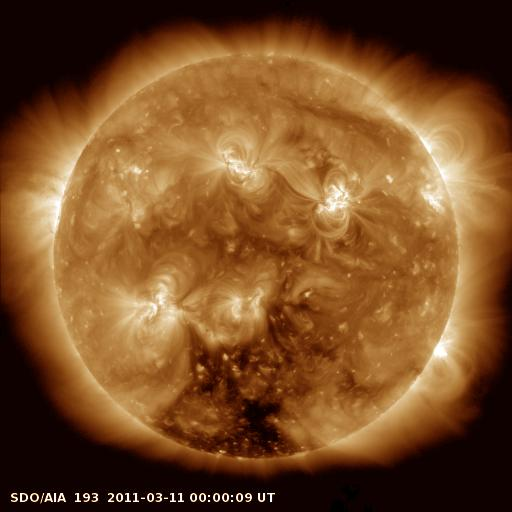coronal_hole: (165, 304, 348, 471)
